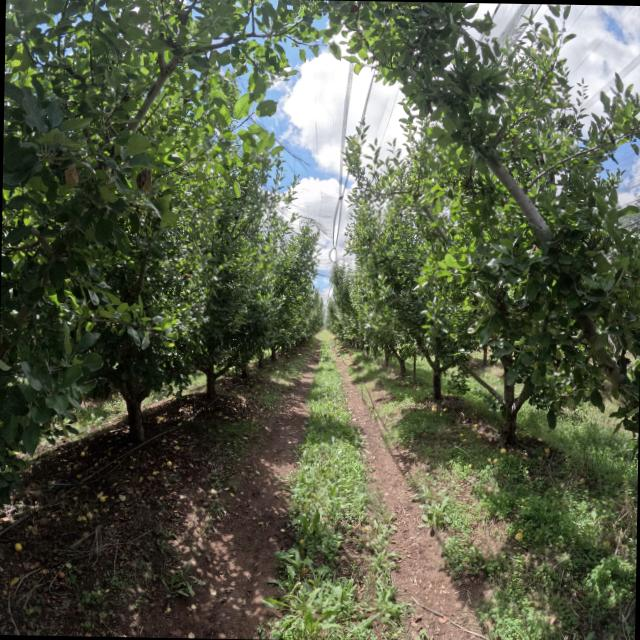-FireBlight-: (136, 165, 155, 196), (65, 165, 79, 186)
